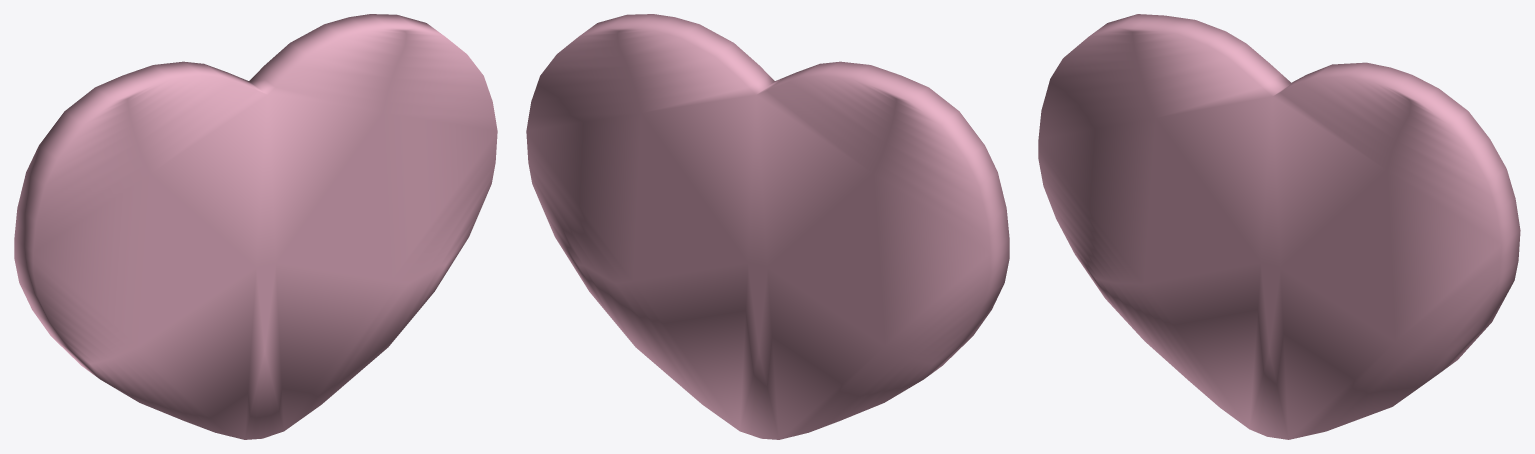
The model's file is Heart.dae.
The picture shows the model from 3 angles, left to right: view 1: azimuth 30°, elevation 25°; view 2: azimuth 150°, elevation 25°; view 3: azimuth 330°, elevation 25°; orthographic projection.
Parts seen in each view (by area): view 1: Plane; view 2: Plane; view 3: Plane.
Boxes of the visible parts, x1,y1,x2,y2 form: Plane: [14, 14, 497, 439]; Plane: [526, 14, 1009, 439]; Plane: [1038, 14, 1520, 439].
Size of the model in its own units: 8.73 by 0.6156 by 6.86.
